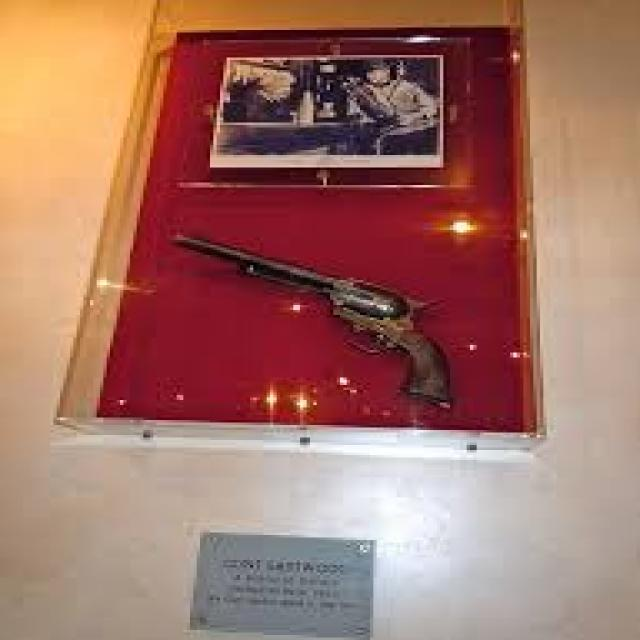gun: (157, 210, 502, 414)
